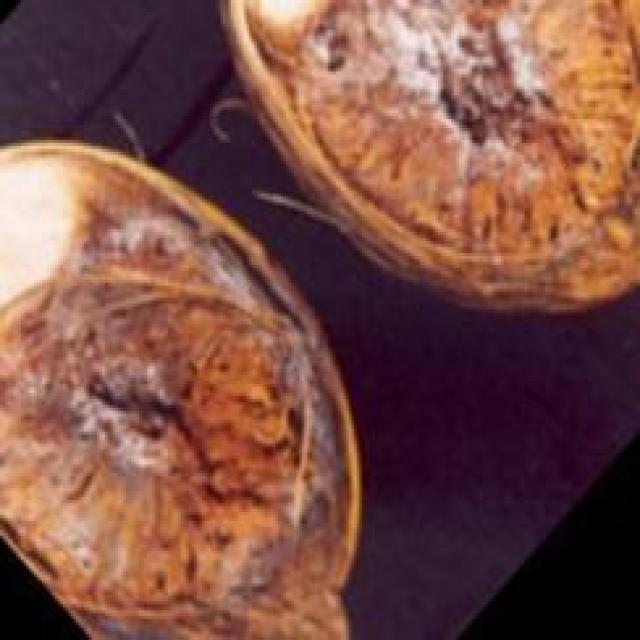damaged: (0, 140, 357, 637), (223, 0, 637, 310)
